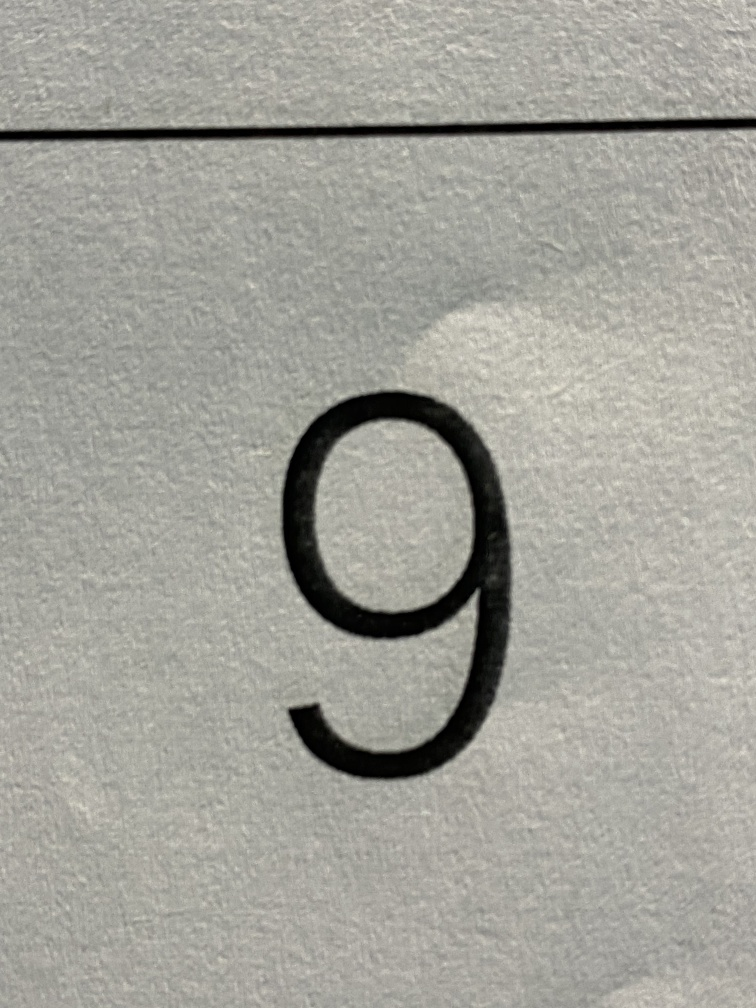nine: (205, 326, 591, 861)
